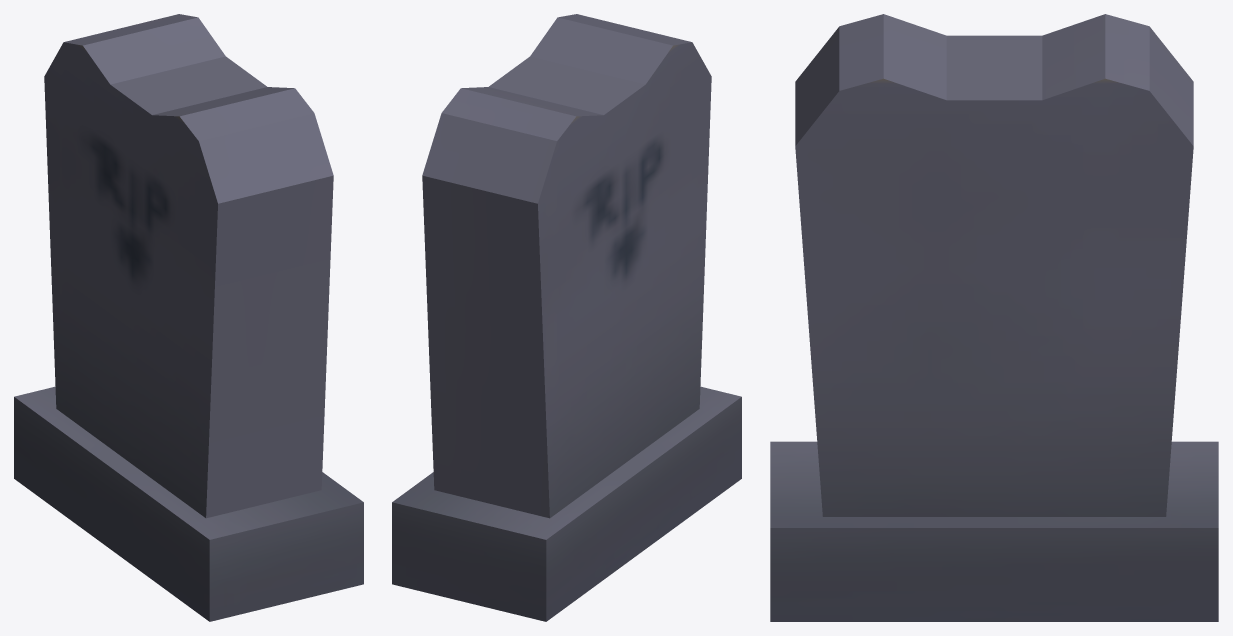
File: F_Gravestone_2.fbx
3 views of the same model, side by side, from view 1: azimuth 30°, elevation 25°; view 2: azimuth 150°, elevation 25°; view 3: azimuth 270°, elevation 25° (orthographic). The views are drawn at different scales.
Visible parts, largest first — view 1: F_Gravestone_2; view 2: F_Gravestone_2; view 3: F_Gravestone_2.
Boxes of the visible parts, <box> form: F_Gravestone_2: <box>14,14,363,621</box>; F_Gravestone_2: <box>392,14,741,621</box>; F_Gravestone_2: <box>770,14,1218,621</box>.
Size of the model in its own units: 0.9354 by 1.23 by 0.4255.
1 material, 1 textured.
